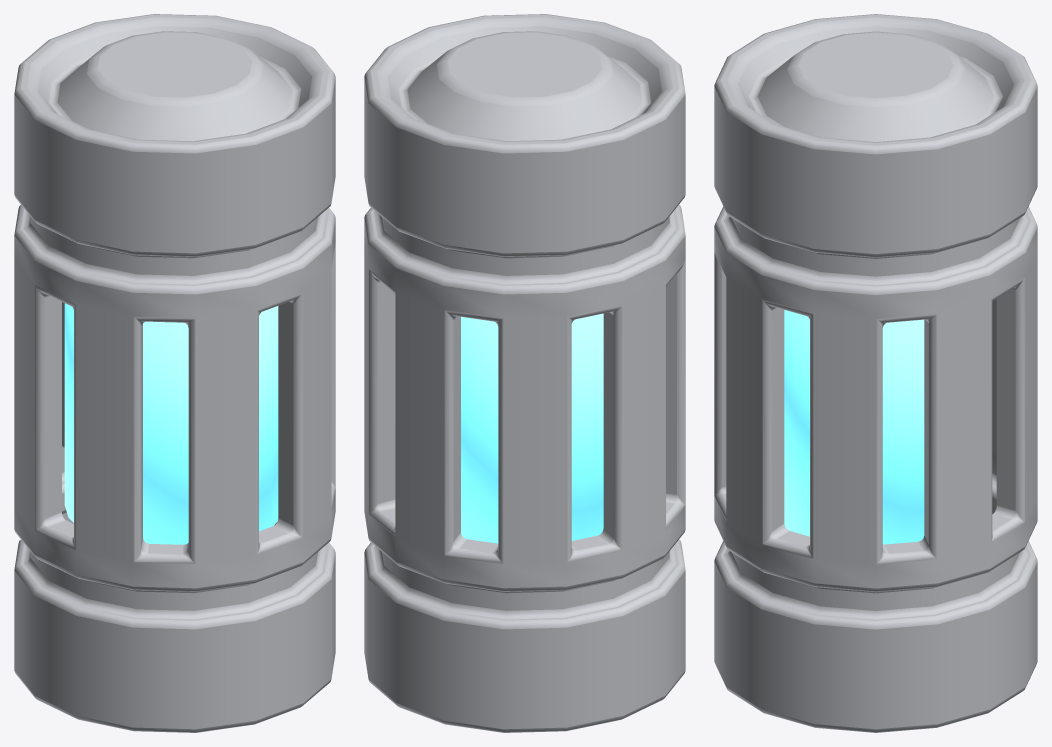
The model's file is celda_06.glb.
3 views of the same model, side by side, from view 1: azimuth 30°, elevation 25°; view 2: azimuth 150°, elevation 25°; view 3: azimuth 270°, elevation 25° (orthographic).
Parts seen in each view (by area): view 1: Celda_06, Nucleo_06; view 2: Celda_06, Nucleo_06; view 3: Celda_06, Nucleo_06.
Boxes of the visible parts, left/top/right/bottom form: Celda_06: left=14, top=14, right=335, bottom=732; Nucleo_06: left=64, top=303, right=278, bottom=544; Celda_06: left=364, top=14, right=685, bottom=732; Nucleo_06: left=461, top=313, right=603, bottom=543; Celda_06: left=714, top=14, right=1037, bottom=732; Nucleo_06: left=784, top=310, right=924, bottom=544.
Bounding box in the file's own units: 1 × 2.05 × 1.
